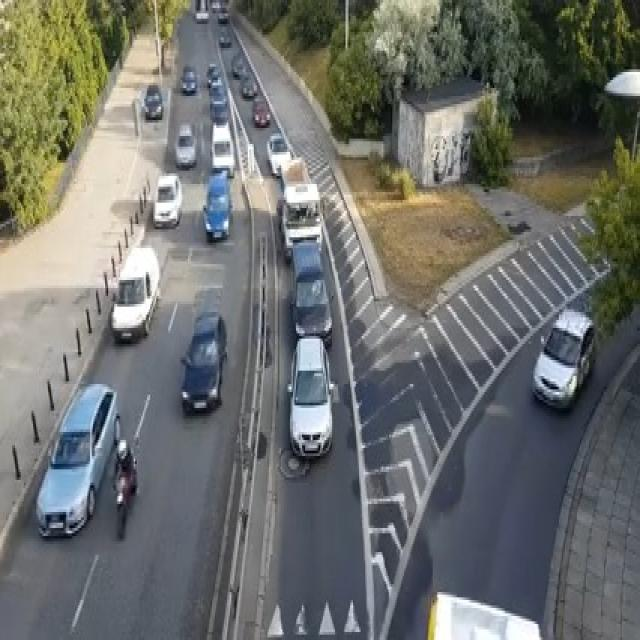car: (35, 381, 120, 536), (530, 306, 595, 411), (286, 333, 334, 459), (425, 590, 544, 638), (179, 310, 227, 414), (110, 243, 159, 341), (290, 240, 332, 347), (280, 182, 322, 262), (201, 171, 230, 240), (152, 170, 182, 227), (210, 120, 234, 176), (266, 131, 291, 176), (174, 123, 196, 168), (209, 77, 227, 120), (143, 83, 162, 120), (251, 96, 270, 125), (179, 64, 195, 93), (239, 72, 257, 96), (206, 61, 221, 88), (232, 51, 246, 77), (220, 30, 232, 46), (216, 6, 228, 22), (210, 0, 221, 11)
